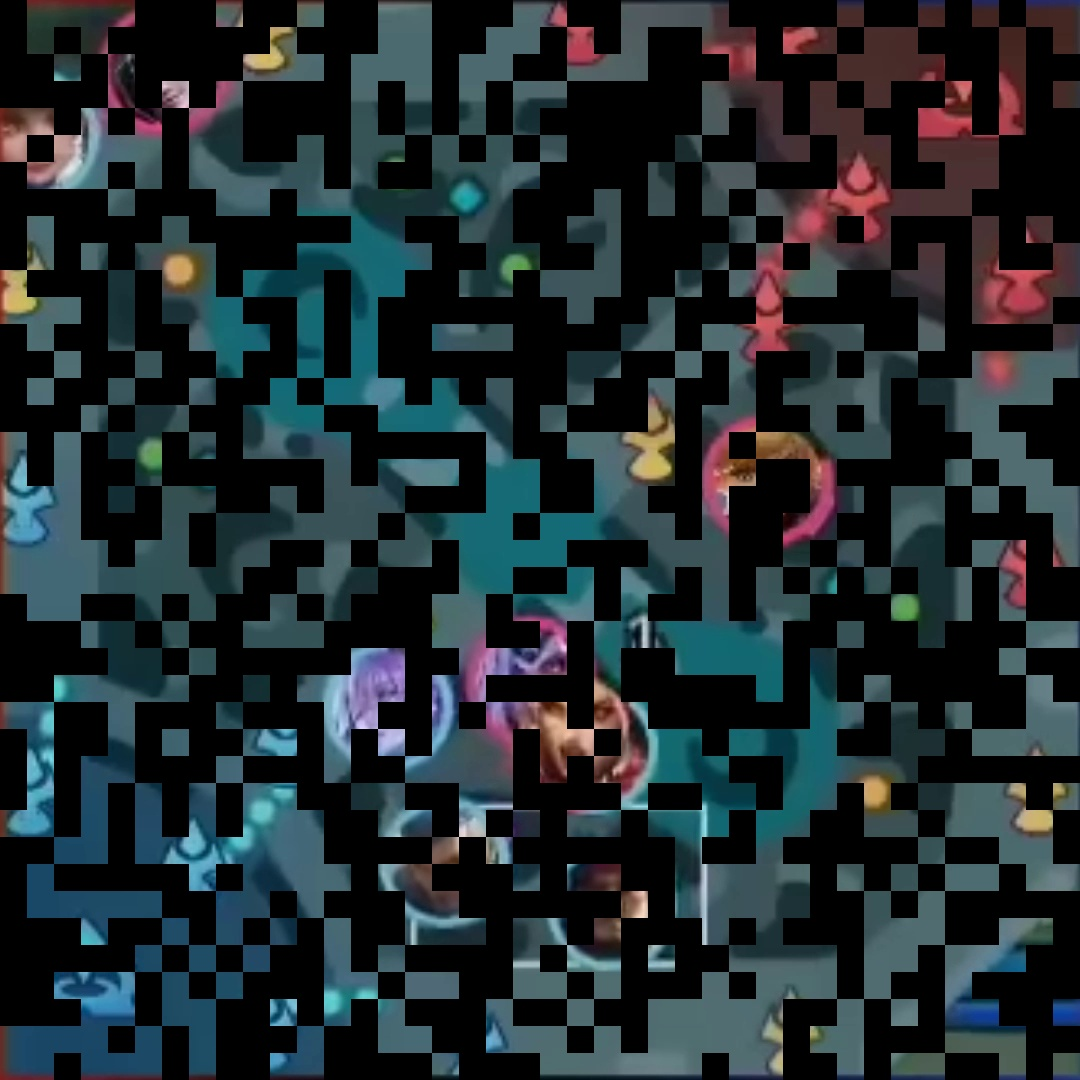Claude: (107, 18, 218, 124)
Fanny: (706, 416, 819, 530)
Fredrinn: (386, 808, 500, 920)
Lapu-Lapu: (559, 853, 675, 956)
Masha: (532, 684, 621, 778)
Novaria: (334, 650, 441, 761)
Valentina: (484, 622, 570, 699)
Wanwan: (2, 78, 92, 195)
